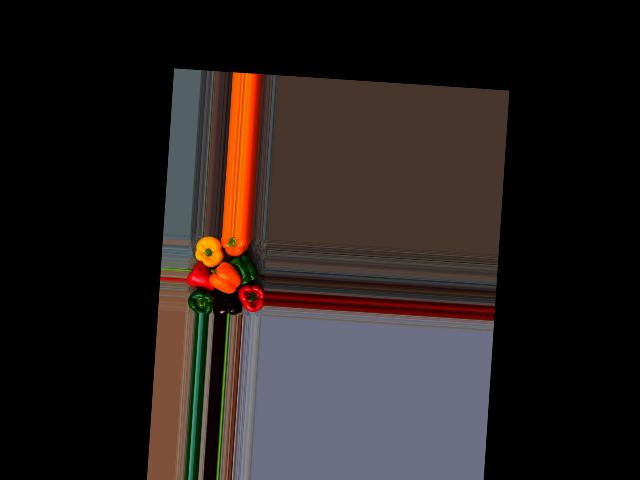bell_pepper: (220, 236, 258, 264)
